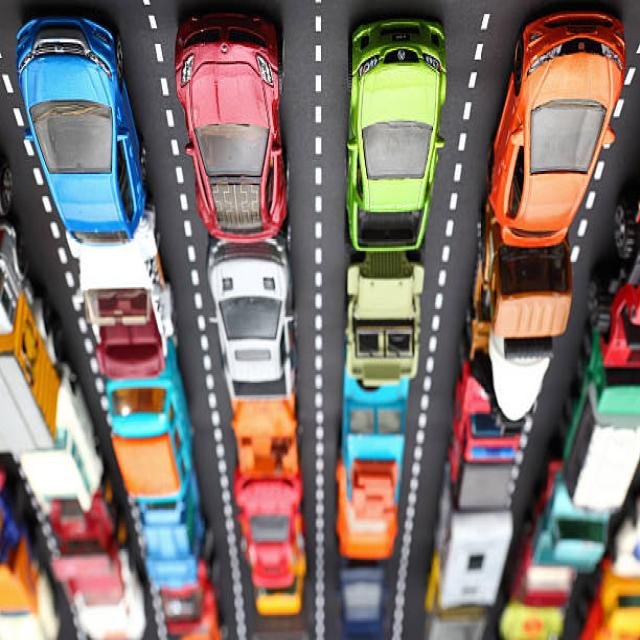Car: (486, 9, 626, 250), (14, 12, 148, 250), (174, 11, 288, 245)
